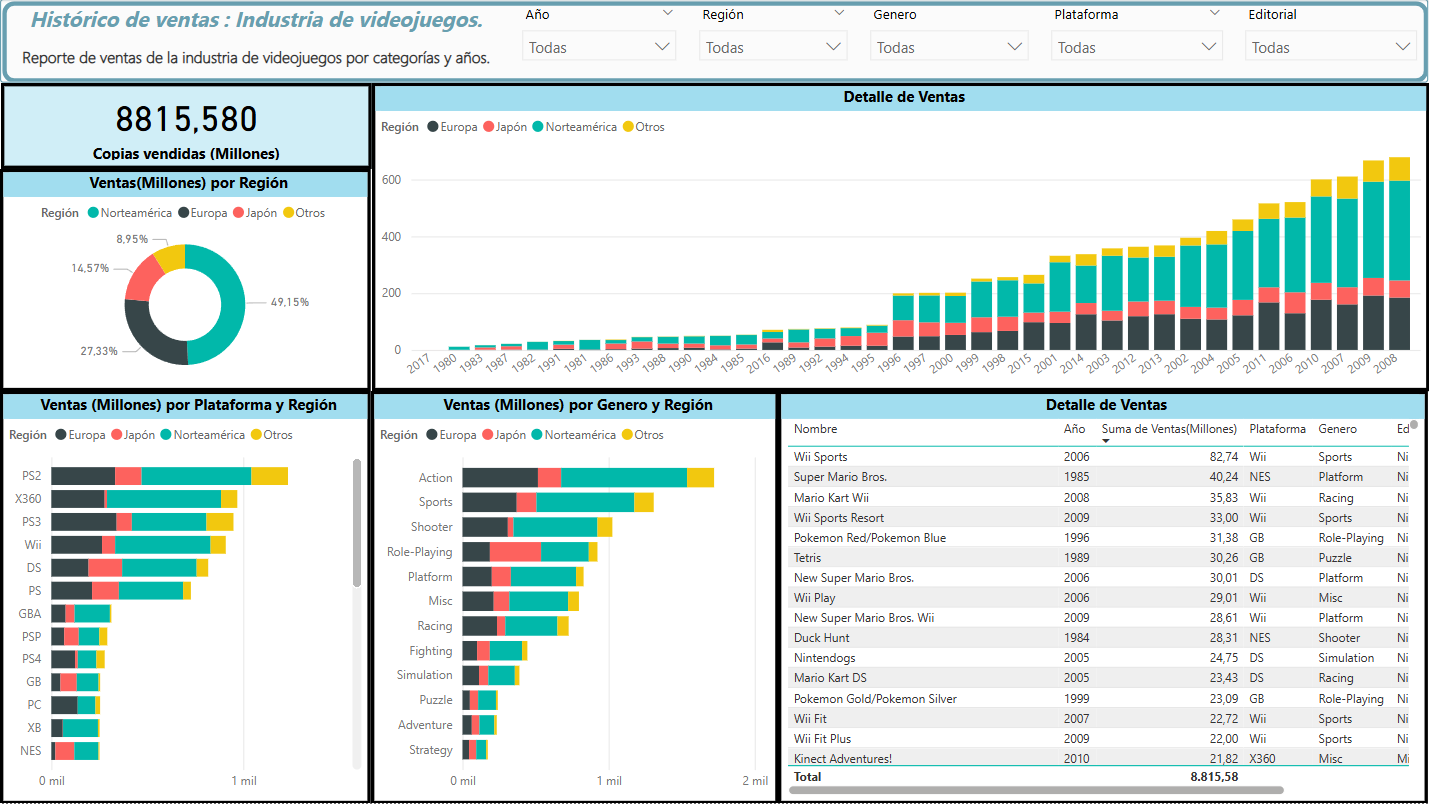

This screenshot's page, from the dashboard's own definition file:
{"tool":"powerbi","page":{"name":"Página 1","canvas":[1280,720],"ordinal":0},"visuals":[{"type":"shape","box":[0,0,1279,75],"z":0},{"type":"tableEx","title":"Detalle de Ventas","fields":{"Values":["Ventas Videojuegos.Nombre","Ventas Videojuegos.Año","Sum(Ventas Videojuegos.Ventas(Millones))","Ventas Videojuegos.Plataforma","Ventas Videojuegos.Genero","Ventas Videojuegos.Editorial"]},"box":[697,351,582,370],"z":1000},{"type":"columnChart","title":"Detalle de Ventas","fields":{"Category":["Ventas Videojuegos.Año"],"Y":["Sum(Ventas Videojuegos.Ventas(Millones))"],"Series":["Ventas Videojuegos.Región"]},"box":[333,75,947,276],"z":2000},{"type":"donutChart","title":"Ventas(Millones) por Región","fields":{"Category":["Ventas Videojuegos.Región"],"Y":["Sum(Ventas Videojuegos.Ventas(Millones))"]},"box":[0,152,332,199],"z":3000},{"type":"barChart","title":"Ventas (Millones) por Plataforma y Región","fields":{"Category":["Ventas Videojuegos.Plataforma"],"Series":["Ventas Videojuegos.Región"],"Y":["Sum(Ventas Videojuegos.Ventas(Millones))"]},"box":[0,351,332,370],"z":4000},{"type":"barChart","title":"Ventas (Millones) por Genero y Región","fields":{"Category":["Ventas Videojuegos.Genero"],"Series":["Ventas Videojuegos.Región"],"Y":["Sum(Ventas Videojuegos.Ventas(Millones))"]},"box":[332,351,365,370],"z":5000},{"type":"card","fields":{"Values":["Sum(Ventas Videojuegos.Ventas(Millones))"]},"box":[1,75,332,77],"z":6000},{"type":"slicer","fields":{"Values":["Ventas Videojuegos.Año"]},"box":[458,0,158,75],"z":7000},{"type":"slicer","fields":{"Values":["Ventas Videojuegos.Editorial"]},"box":[1105,0,174,75],"z":8000},{"type":"slicer","fields":{"Values":["Ventas Videojuegos.Plataforma"]},"box":[931,0,174,75],"z":9000},{"type":"slicer","fields":{"Values":["Ventas Videojuegos.Genero"]},"box":[769,0,162,75],"z":10000},{"type":"slicer","fields":{"Values":["Ventas Videojuegos.Región"]},"box":[616,0,153,75],"z":11000},{"type":"textbox","box":[0,0,458,75],"z":12000},{"type":"textbox","box":[1,38,457,37],"z":13000}]}

Visuals, with their boxes in screenshot pixels (x1, y1, x2, y2), scaled from the page's 1280x720 canvas onto the 1429x804 screenshot:
shape: (0, 0, 1428, 84)
"Detalle de Ventas" tableEx: (778, 392, 1428, 803)
"Detalle de Ventas" columnChart: (372, 84, 1428, 392)
"Ventas(Millones) por Región" donutChart: (0, 170, 371, 392)
"Ventas (Millones) por Plataforma y Región" barChart: (0, 392, 371, 803)
"Ventas (Millones) por Genero y Región" barChart: (371, 392, 778, 803)
card - Sum(Ventas Videojuegos.Ventas(Millones)): (1, 84, 372, 170)
slicer - Ventas Videojuegos.Año: (511, 0, 688, 84)
slicer - Ventas Videojuegos.Editorial: (1234, 0, 1428, 84)
slicer - Ventas Videojuegos.Plataforma: (1039, 0, 1234, 84)
slicer - Ventas Videojuegos.Genero: (859, 0, 1039, 84)
slicer - Ventas Videojuegos.Región: (688, 0, 859, 84)
textbox: (0, 0, 511, 84)
textbox: (1, 42, 511, 84)
